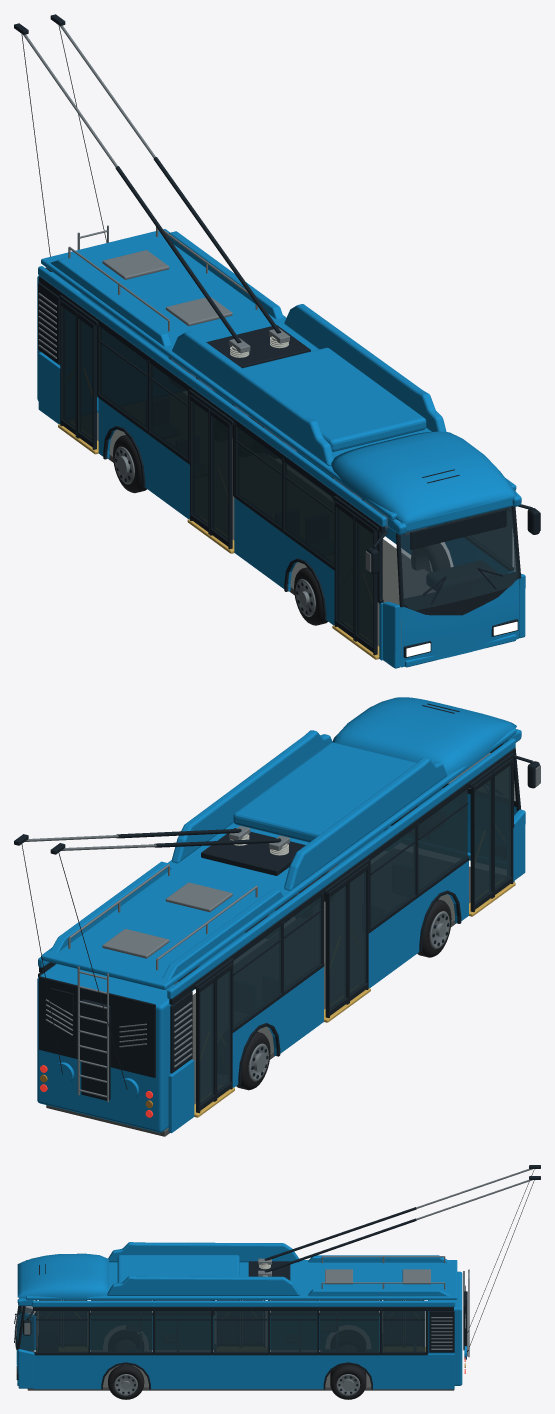
The model's file is bkm32100d.raw.glb.
3 renders of one model, top to bottom at view 1: azimuth 30°, elevation 25°; view 2: azimuth 150°, elevation 25°; view 3: azimuth 270°, elevation 25°, orthographic. The views are drawn at different scales.
Parts seen in each view (by area): view 1: body-shell--review-blue-body, body-shell--review-black-frames, body-shell--review-side-glass, body-shell--review-windshield, body-shell--review-wheel-and-hardware, body-shell--review-floor, door-middle-forward-pivot--review-side-glass, door-middle-rearward-pivot--review-side-glass, door-front-rearward-pivot--review-side-glass, door-front-forward-pivot--review-side-glass, door-rear-forward-pivot--review-side-glass, door-rear-rearward-pivot--review-side-glass (+9 smaller); view 2: body-shell--review-blue-body, body-shell--review-black-frames, body-shell--review-side-glass, body-shell--review-wheel-and-hardware, door-front-rearward-pivot--review-side-glass, door-middle-rearward-pivot--review-side-glass, door-front-forward-pivot--review-side-glass, door-middle-forward-pivot--review-side-glass, door-rear-forward-pivot--review-side-glass, door-rear-rearward-pivot--review-side-glass, body-shell--review-floor, door-front-rearward-pivot--review-black-frames (+12 smaller); view 3: body-shell--review-blue-body, body-shell--review-side-glass, body-shell--review-black-frames, body-shell--review-wheel-and-hardware, body-shell--review-floor, wheel-spin-rear-right--review-tire-rubber, wheel-spin-front-right--review-tire-rubber, body-shell--review-windshield, pole-left-shaft-lower--review-black-frames, pole-right-shaft-lower--review-black-frames, wheel-spin-rear-right--review-wheel-and-hardware, wheel-spin-front-right--review-wheel-and-hardware.
Boxes of the visible parts, box(x1,y1,x2,y2) form: body-shell--review-blue-body: box(37, 229, 525, 668); body-shell--review-black-frames: box(38, 267, 521, 658); body-shell--review-side-glass: box(99, 327, 512, 599); body-shell--review-windshield: box(400, 506, 518, 610); body-shell--review-wheel-and-hardware: box(38, 225, 289, 358); body-shell--review-floor: box(97, 412, 435, 666); door-middle-forward-pivot--review-side-glass: box(212, 416, 228, 540); door-middle-rearward-pivot--review-side-glass: box(192, 402, 208, 525); door-front-rearward-pivot--review-side-glass: box(337, 508, 353, 631); door-front-forward-pivot--review-side-glass: box(357, 522, 373, 646); door-rear-forward-pivot--review-side-glass: box(79, 319, 92, 440); door-rear-rearward-pivot--review-side-glass: box(62, 307, 75, 428); body-shell--review-blue-body: box(37, 697, 525, 1133); body-shell--review-black-frames: box(38, 703, 521, 1100); body-shell--review-side-glass: box(233, 789, 467, 1028); body-shell--review-wheel-and-hardware: box(45, 826, 289, 1102); door-front-rearward-pivot--review-side-glass: box(475, 779, 491, 903); door-middle-rearward-pivot--review-side-glass: box(330, 885, 346, 1009); door-front-forward-pivot--review-side-glass: box(495, 765, 511, 888); door-middle-forward-pivot--review-side-glass: box(350, 871, 366, 994); door-rear-forward-pivot--review-side-glass: box(217, 970, 230, 1091); door-rear-rearward-pivot--review-side-glass: box(200, 982, 213, 1104); body-shell--review-floor: box(46, 866, 470, 1136); door-front-rearward-pivot--review-black-frames: box(470, 772, 493, 912); body-shell--review-blue-body: box(16, 1242, 466, 1389); body-shell--review-side-glass: box(35, 1300, 425, 1352); body-shell--review-black-frames: box(16, 1261, 467, 1389); body-shell--review-wheel-and-hardware: box(258, 1256, 469, 1357); body-shell--review-floor: box(27, 1351, 454, 1390); wheel-spin-rear-right--review-tire-rubber: box(330, 1364, 366, 1399); wheel-spin-front-right--review-tire-rubber: box(108, 1364, 144, 1399); body-shell--review-windshield: box(14, 1300, 34, 1352); pole-left-shaft-lower--review-black-frames: box(264, 1207, 416, 1260); pole-right-shaft-lower--review-black-frames: box(264, 1218, 416, 1272); wheel-spin-rear-right--review-wheel-and-hardware: box(336, 1374, 360, 1395); wheel-spin-front-right--review-wheel-and-hardware: box(114, 1374, 137, 1395).
Size of the model in its own units: 3.27 by 6.25 by 14.23.
